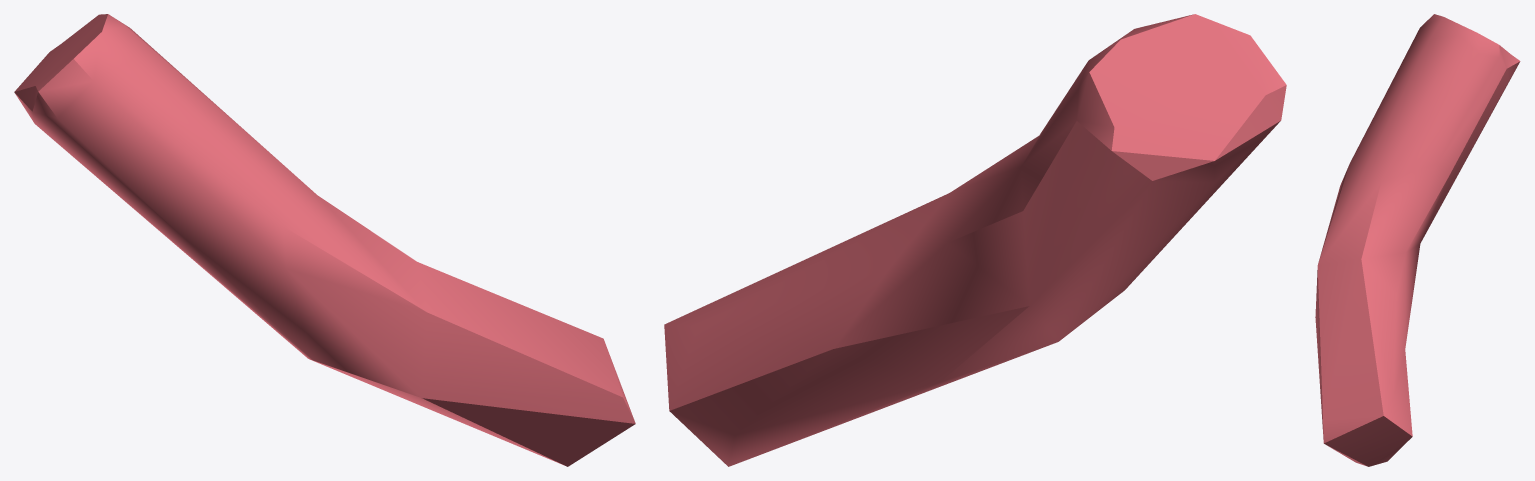
The model's file is fma8639_fj2899.glb.
3 renders of one model, left to right at view 1: azimuth 30°, elevation 25°; view 2: azimuth 150°, elevation 25°; view 3: azimuth 270°, elevation 25°, orthographic. The views are drawn at different scales.
Parts seen in each view (by area): view 1: FMA8639_FJ2899; view 2: FMA8639_FJ2899; view 3: FMA8639_FJ2899.
Boxes of the visible parts, left/top/right/bottom form: FMA8639_FJ2899: left=14, top=14, right=635, bottom=466; FMA8639_FJ2899: left=664, top=14, right=1286, bottom=466; FMA8639_FJ2899: left=1315, top=14, right=1520, bottom=466.
Bounding box in the file's own units: 0.01 × 0.00885 × 0.00517.
